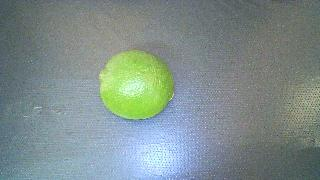EXPORTACION: (99, 50, 174, 120)
